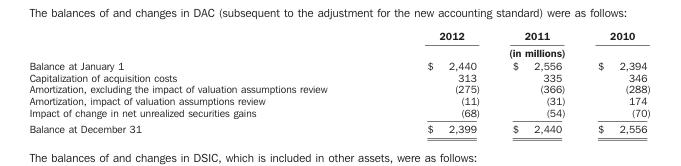table: (28, 29, 649, 134)
table column: (28, 29, 376, 134), (376, 29, 495, 134), (495, 29, 580, 134), (580, 29, 649, 134)
table column header: (28, 29, 649, 58)
table row: (28, 43, 649, 58), (28, 29, 649, 43), (28, 106, 649, 120), (28, 120, 649, 134), (28, 58, 649, 71), (28, 82, 649, 94), (28, 94, 649, 106), (28, 71, 649, 82)
table spanning cell: (376, 43, 649, 58)
